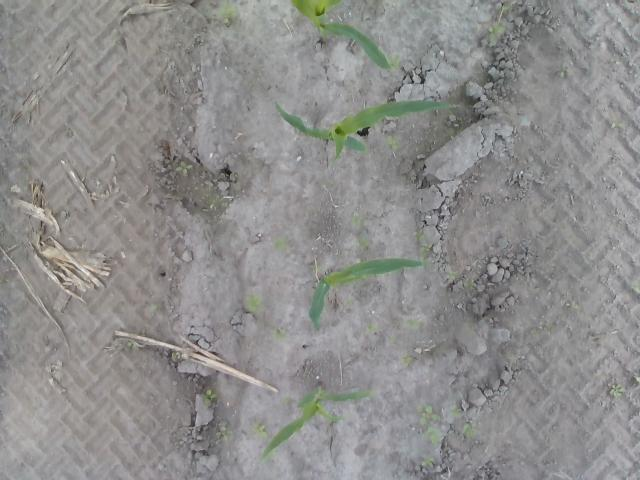Maize: (272, 100, 458, 158), (262, 382, 372, 467), (310, 254, 425, 332), (290, 0, 394, 72)
Weeds: (417, 404, 445, 448), (216, 0, 239, 17), (486, 22, 505, 42), (385, 134, 401, 153), (244, 295, 262, 311), (175, 159, 193, 174), (398, 318, 418, 331), (274, 234, 290, 250), (462, 424, 480, 438), (216, 425, 232, 440), (610, 114, 624, 129), (202, 388, 216, 403), (352, 216, 369, 227), (399, 352, 412, 366), (256, 423, 268, 438), (354, 238, 369, 250), (272, 329, 288, 340), (366, 324, 383, 334), (610, 384, 624, 396), (420, 457, 436, 467), (390, 54, 401, 67), (560, 63, 569, 78), (631, 279, 640, 293), (420, 244, 431, 255), (450, 408, 462, 418), (415, 231, 426, 241), (466, 280, 477, 289), (127, 341, 137, 350), (446, 272, 454, 280), (268, 450, 276, 456)
